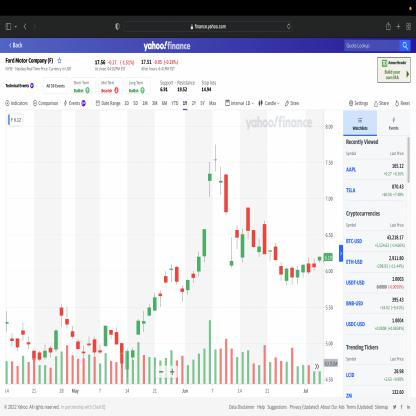Bullish: Kicker: (191, 250, 201, 284)
